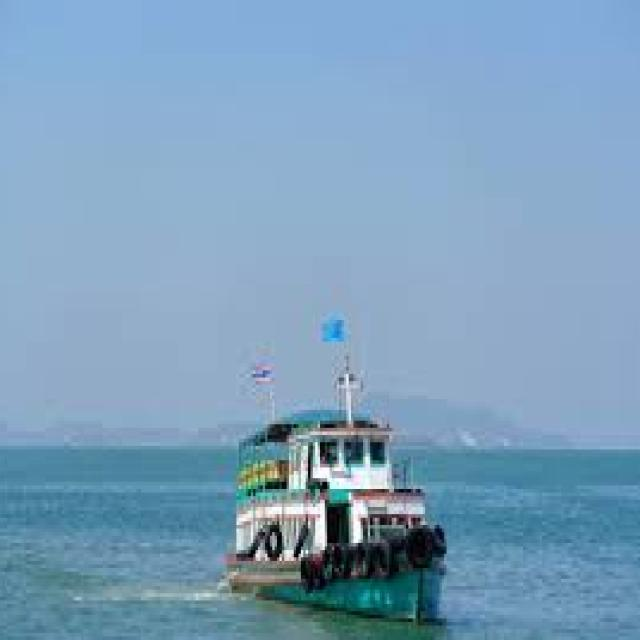fishing boat: (218, 369, 453, 622)
